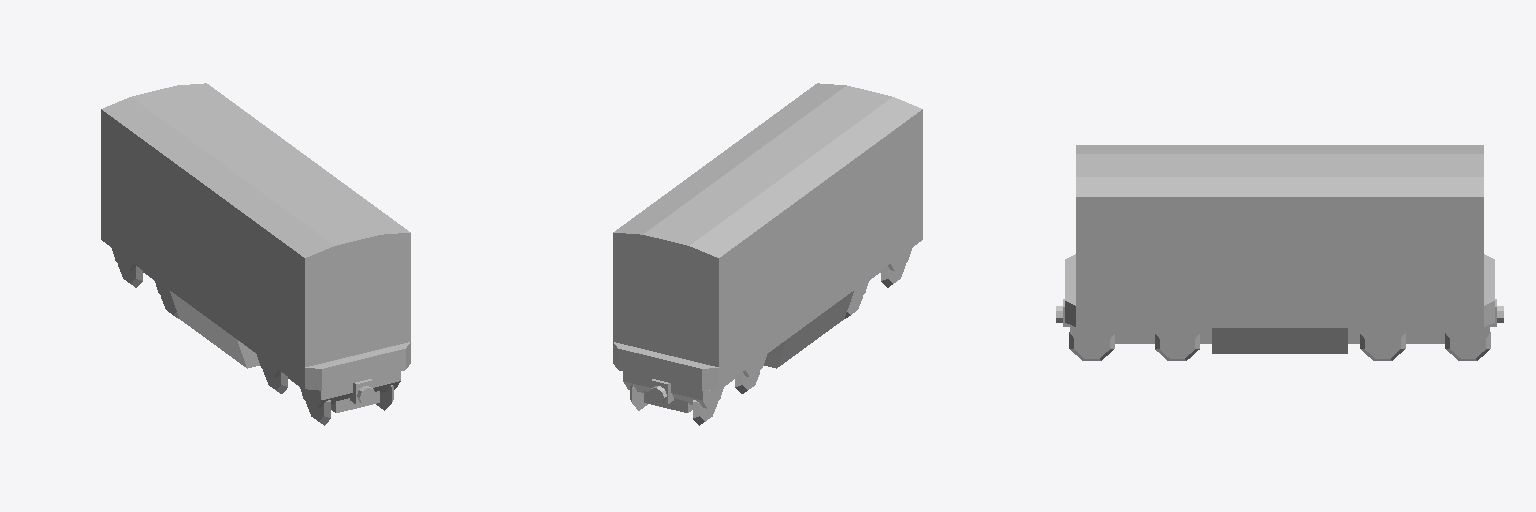
File: SM_Veh_Bullet_Carriage_01.obj
The picture shows the model from 3 angles: view 1: azimuth 30°, elevation 25°; view 2: azimuth 150°, elevation 25°; view 3: azimuth 270°, elevation 25°; orthographic projection.
Parts seen in each view (by area): view 1: SM_Veh_Bullet_Carriage_01:Mesh; view 2: SM_Veh_Bullet_Carriage_01:Mesh; view 3: SM_Veh_Bullet_Carriage_01:Mesh.
Part boxes in pixels (x1,y1,x2,y2): SM_Veh_Bullet_Carriage_01:Mesh: (101,83,410,425); SM_Veh_Bullet_Carriage_01:Mesh: (613,83,922,425); SM_Veh_Bullet_Carriage_01:Mesh: (1056,145,1503,360).
Size of the model in its own units: 4.5 by 7.33 by 16.45.